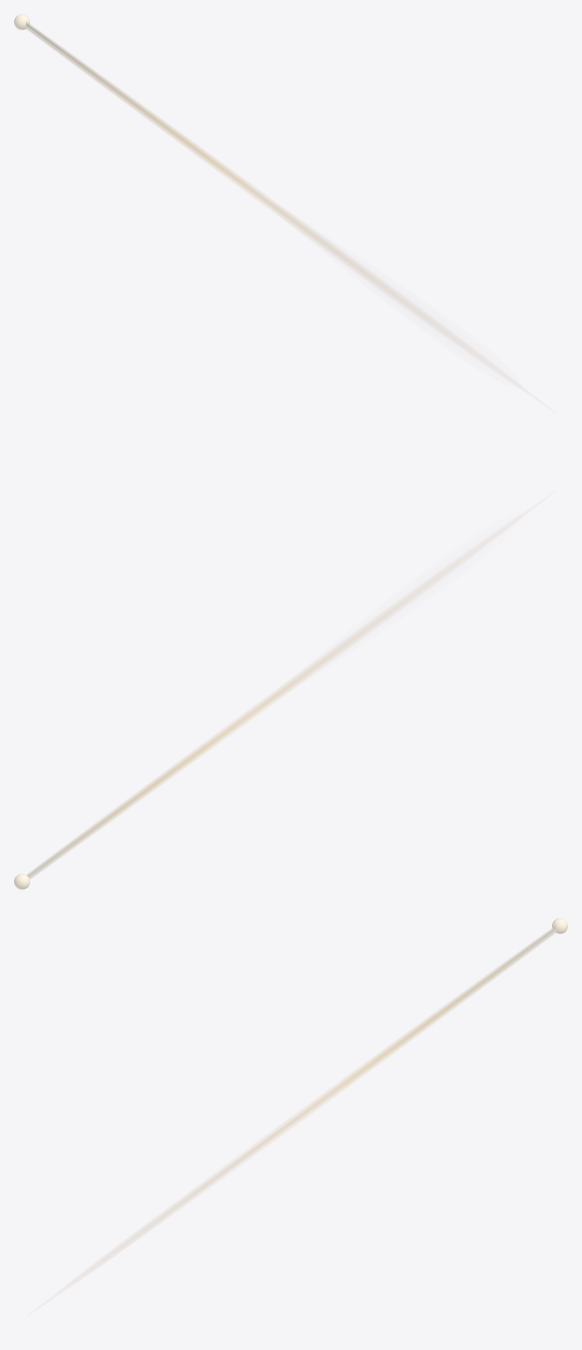
The model's file is vfx_tracer_standard.glb.
3 renders of one model, top to bottom at view 1: azimuth 30°, elevation 25°; view 2: azimuth 150°, elevation 25°; view 3: azimuth 330°, elevation 25°, orthographic.
Visible parts, largest first — view 1: vfx_tracer_standard_streak_b, vfx_tracer_standard_streak_a; view 2: vfx_tracer_standard_streak_b, vfx_tracer_standard_streak_a; view 3: vfx_tracer_standard_streak_b, vfx_tracer_standard_streak_a.
Part boxes in pixels (left/top/right/bottom): vfx_tracer_standard_streak_b: left=26, top=22, right=297, bottom=223; vfx_tracer_standard_streak_a: left=23, top=25, right=296, bottom=223; vfx_tracer_standard_streak_b: left=27, top=679, right=297, bottom=878; vfx_tracer_standard_streak_a: left=27, top=680, right=297, bottom=878; vfx_tracer_standard_streak_b: left=291, top=926, right=555, bottom=1122; vfx_tracer_standard_streak_a: left=285, top=929, right=558, bottom=1127.
Size of the model in its own units: 0.026 by 0.045 by 1.01.
